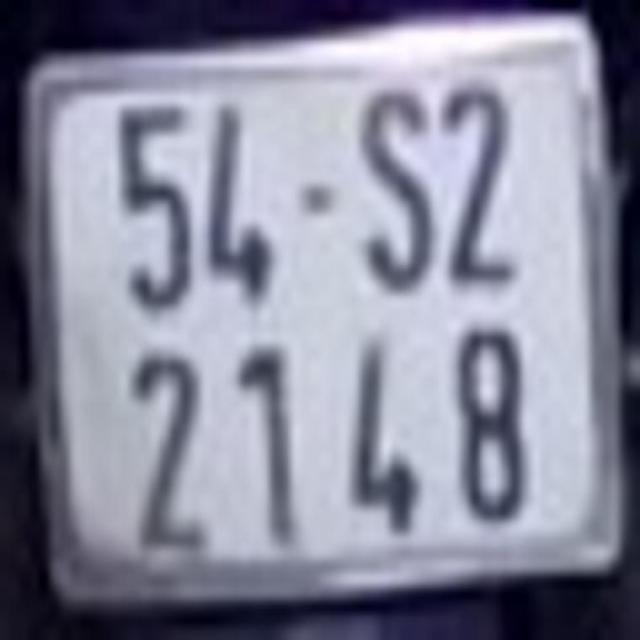1: (232, 353, 300, 545)
2: (442, 85, 520, 282), (134, 351, 213, 544)
4: (204, 106, 278, 319), (349, 342, 422, 542)
5: (116, 98, 190, 305)
8: (458, 328, 526, 518)
S: (370, 94, 432, 294)
